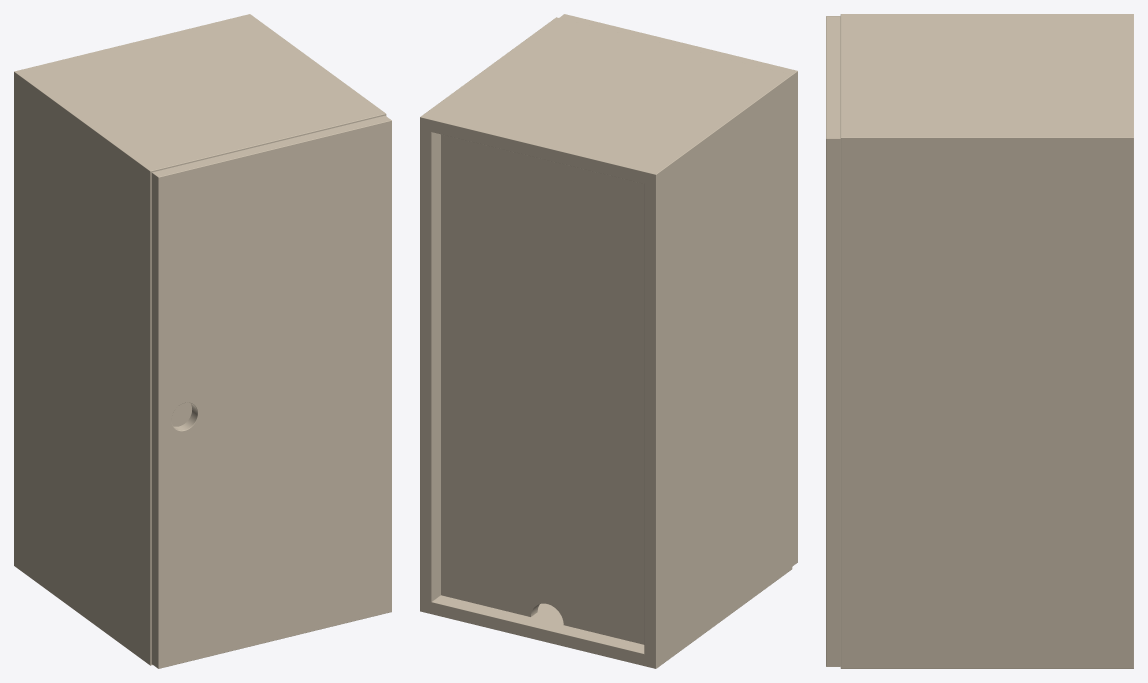
Rendered from MOD-1X2-D-B-IZQ-AP-AR.glb.
3 renders of one model, left to right at view 1: azimuth 30°, elevation 25°; view 2: azimuth 150°, elevation 25°; view 3: azimuth 270°, elevation 25°, orthographic. The views are drawn at different scales.
Size of the model in its own units: 360 by 720 by 378.
